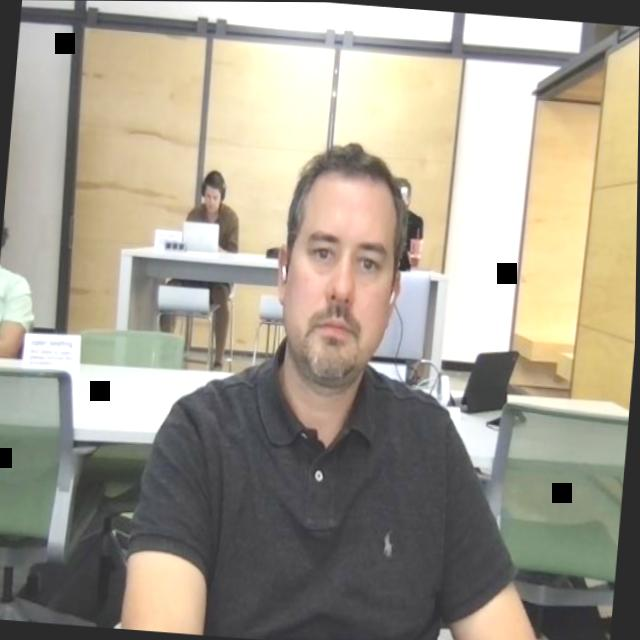NO-Mask: (272, 141, 412, 391), (199, 170, 228, 218)
